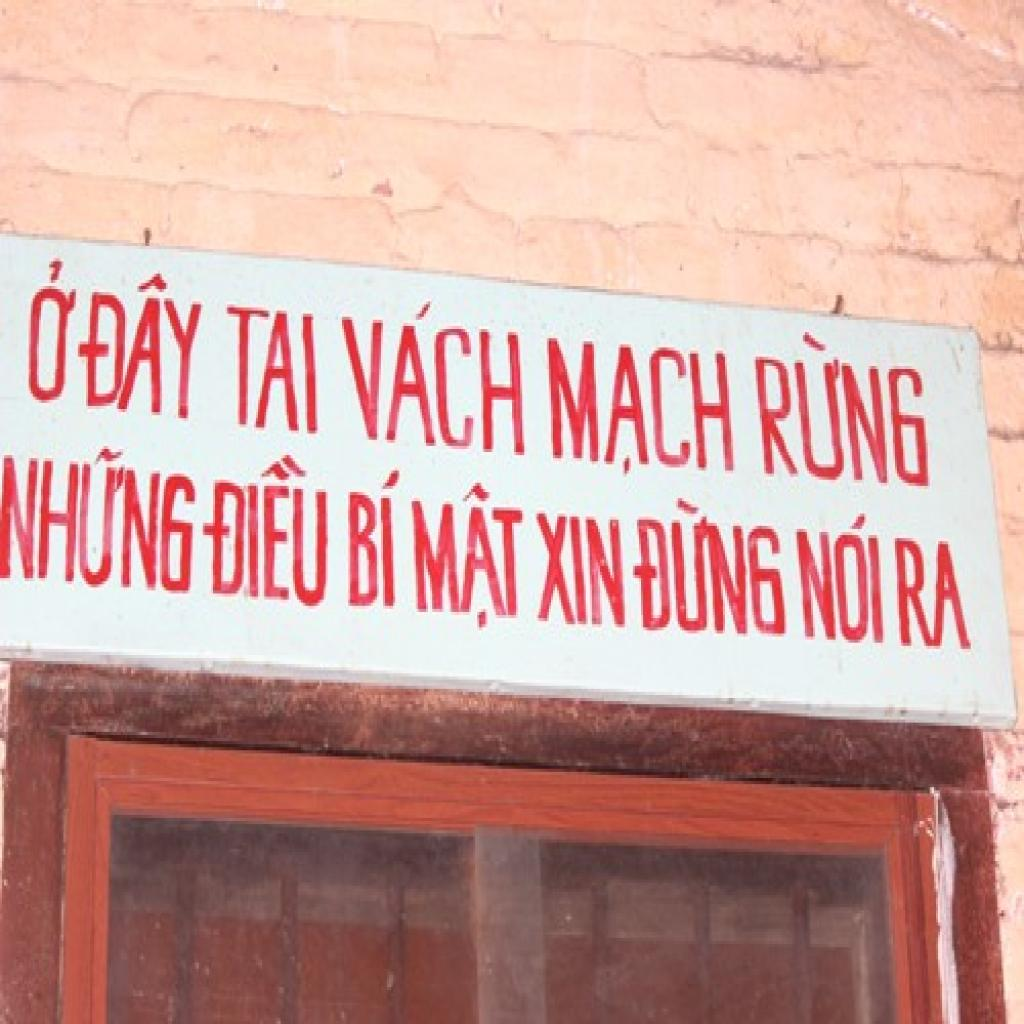text: (334, 286, 532, 470), (2, 430, 201, 606), (748, 323, 938, 501), (540, 326, 746, 489), (628, 495, 792, 646), (196, 443, 332, 618), (72, 268, 213, 428), (412, 480, 528, 640), (219, 292, 324, 440), (790, 504, 889, 655), (534, 498, 633, 637), (20, 246, 86, 412), (346, 461, 408, 621)
